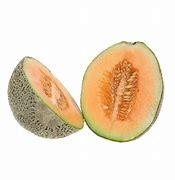Melon Ripe: (82, 42, 165, 142), (7, 55, 85, 139)
